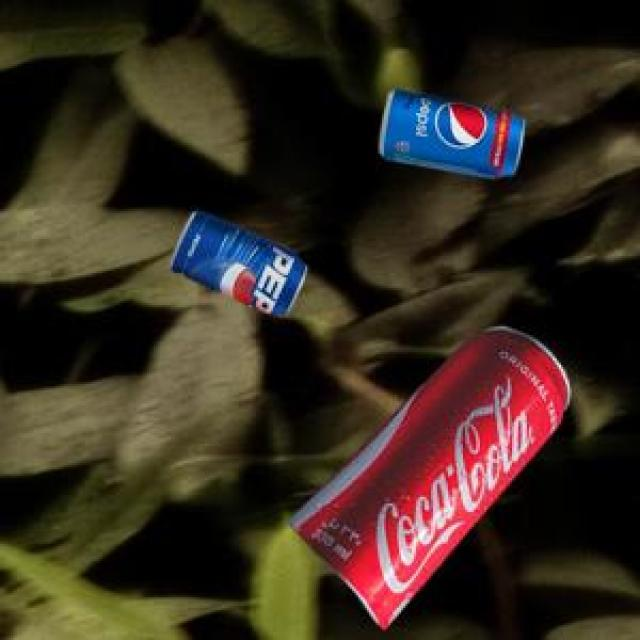Can: (287, 323, 566, 626), (167, 208, 304, 310), (377, 86, 521, 174)
